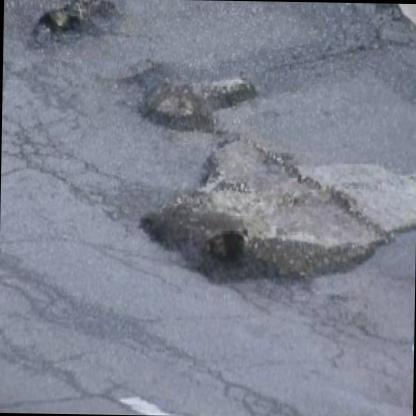pothole: (133, 129, 393, 291), (128, 66, 257, 134), (34, 0, 128, 51)
